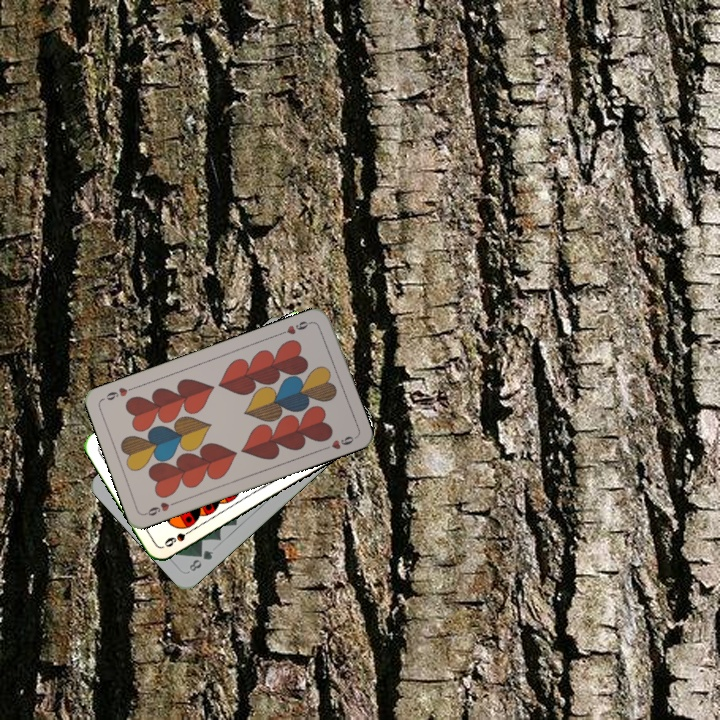G8: (185, 546, 216, 574)
H9: (141, 497, 180, 518), (276, 317, 315, 337)
S9: (160, 524, 197, 550)
